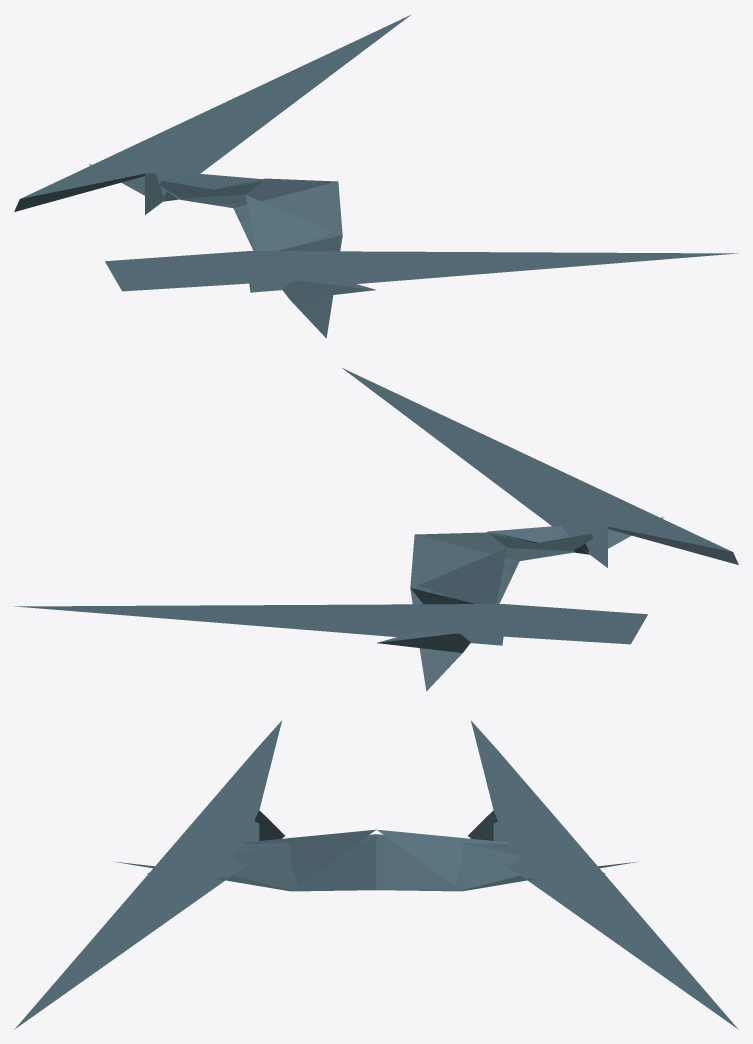
Rendered from spaceship3.obj.
3 renders of one model, top to bottom at view 1: azimuth 30°, elevation 25°; view 2: azimuth 150°, elevation 25°; view 3: azimuth 270°, elevation 25°, orthographic. The views are drawn at different scales.
Parts seen in each view (by area): view 1: Cube; view 2: Cube; view 3: Cube.
Part boxes in pixels (x1,y1,x2,y2): Cube: [14, 14, 738, 338]; Cube: [14, 367, 738, 691]; Cube: [14, 721, 738, 1029].
Bounding box in the file's own units: 4.47 × 0.5039 × 4.93.
